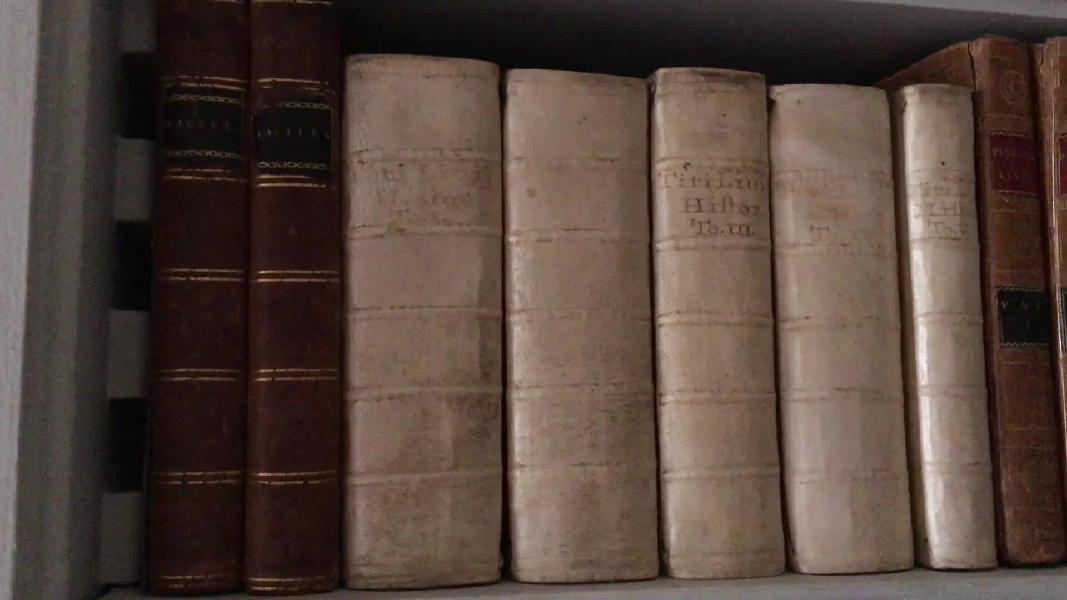Kk4-1_2: (144, 1, 362, 600)
Kk4-3_7: (341, 47, 1001, 594)
